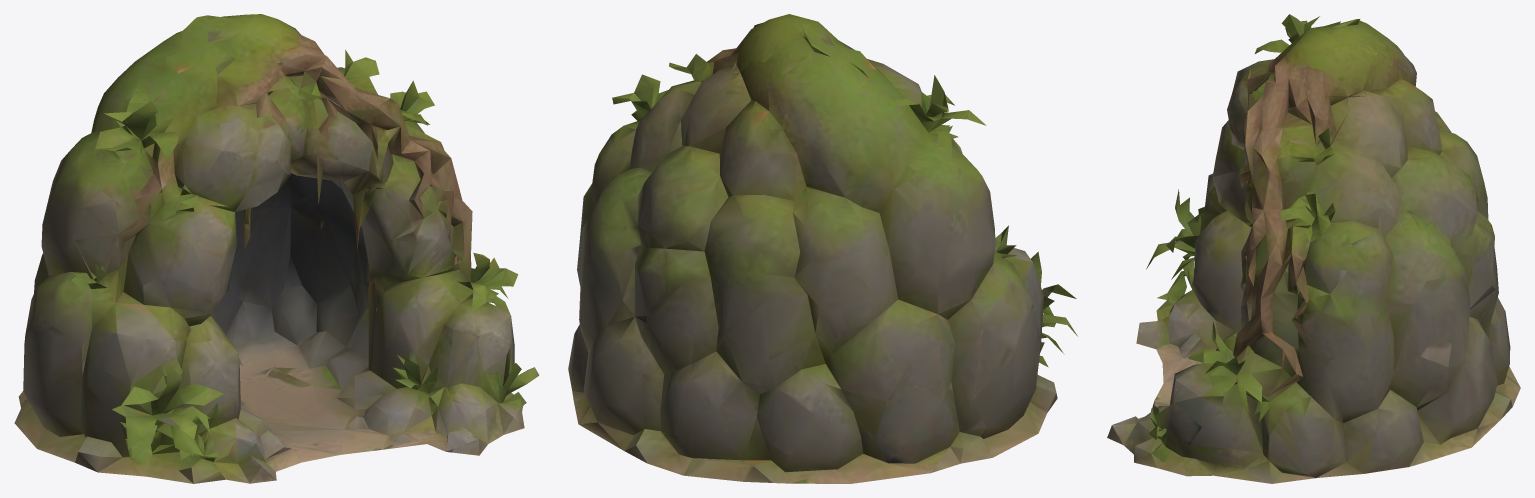
Rendered from boca_cueva_3000.glb.
The picture shows the model from 3 angles, left to right: view 1: azimuth 30°, elevation 25°; view 2: azimuth 150°, elevation 25°; view 3: azimuth 270°, elevation 25°; orthographic projection. The views are drawn at different scales.
Visible parts, largest first — view 1: boca_cueva_malla; view 2: boca_cueva_malla; view 3: boca_cueva_malla.
Part boxes in pixels (left/top/right/bottom): boca_cueva_malla: left=14, top=14, right=539, bottom=483; boca_cueva_malla: left=568, top=14, right=1077, bottom=483; boca_cueva_malla: left=1107, top=14, right=1520, bottom=483.
Bounding box in the file's own units: 0.5754 × 0.4688 × 0.4954.
1 material, 1 textured.
